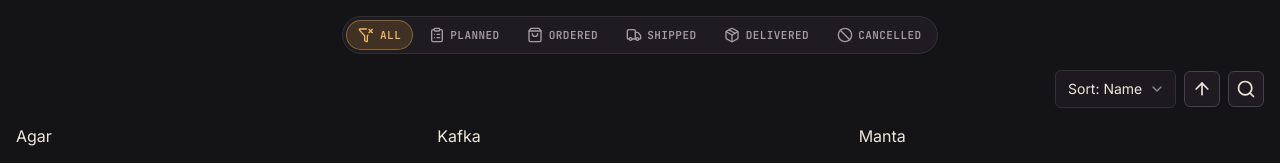
Test: CollectionGrid.svelte › sorting › flips the order with the direction button
Expected: the text "Agar" is shown, x1=16 y1=126 x2=52 y2=146
Step 1. Click the button named "Sort descending" → (1202, 89), box x1=1184 y1=71 x2=1220 y2=107
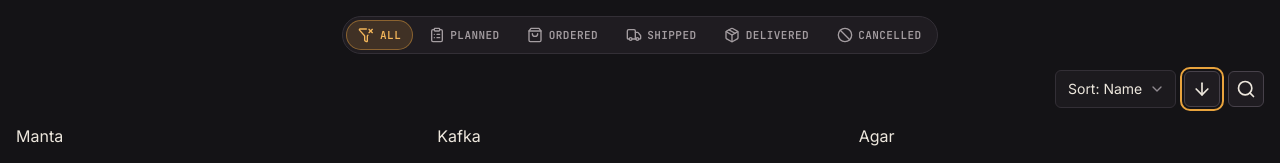
Expected: the text "Manta" is shown, x1=16 y1=126 x2=63 y2=146
Result: the button named "Sort ascending" is shown at x1=1184 y1=71 x2=1220 y2=107
